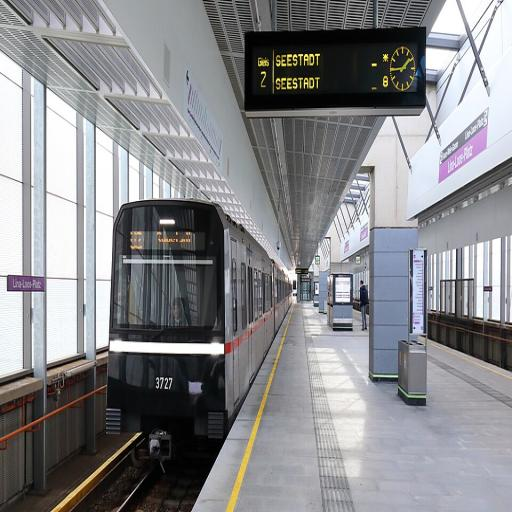X-Wagen: (104, 193, 292, 440)
